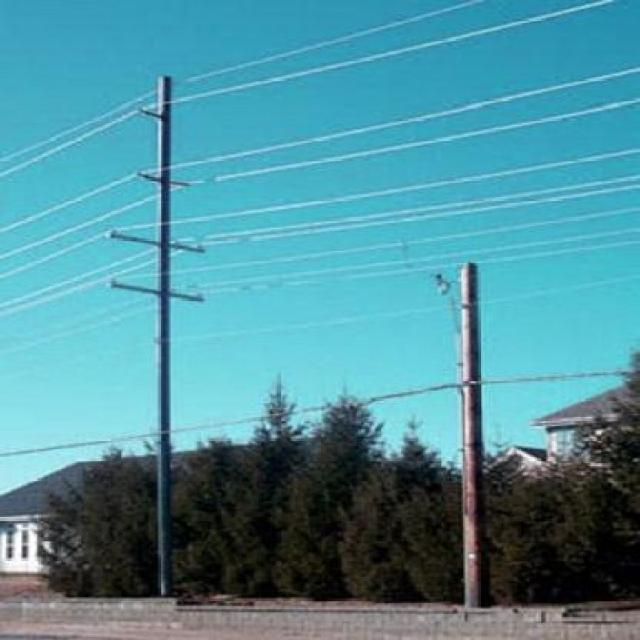pole: (118, 68, 215, 595)
